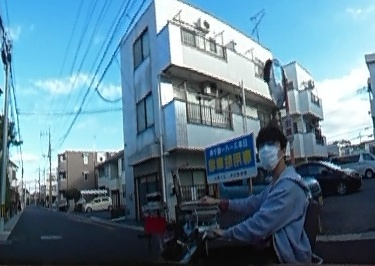person: (208, 125, 304, 266)
